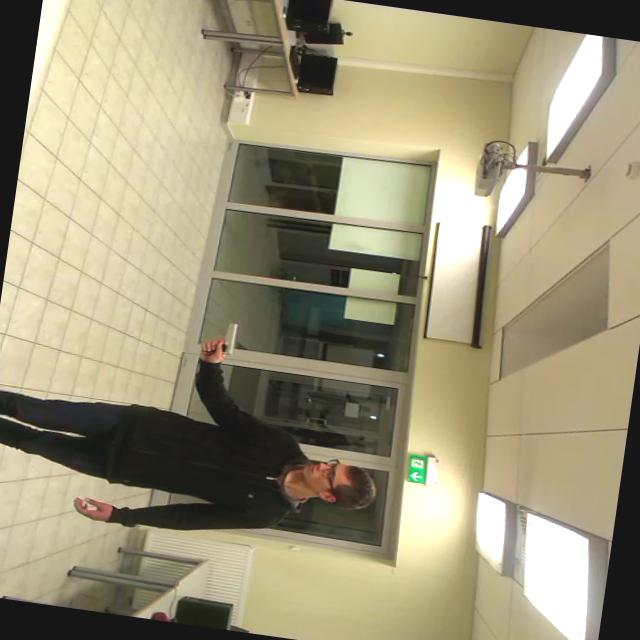handgun: (194, 308, 252, 366)
